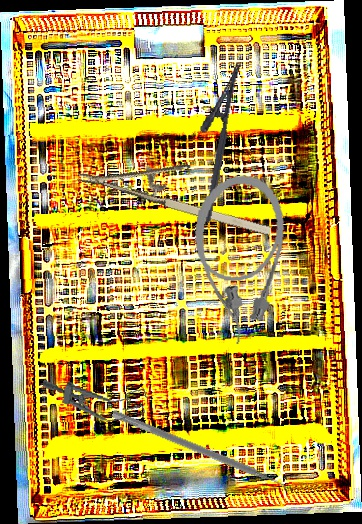Cannula: (180, 169, 292, 349)
Needle Holder: (77, 133, 282, 242), (182, 57, 243, 224)
Spatula Surgical: (107, 409, 294, 498)
Speculum: (38, 371, 150, 428)
